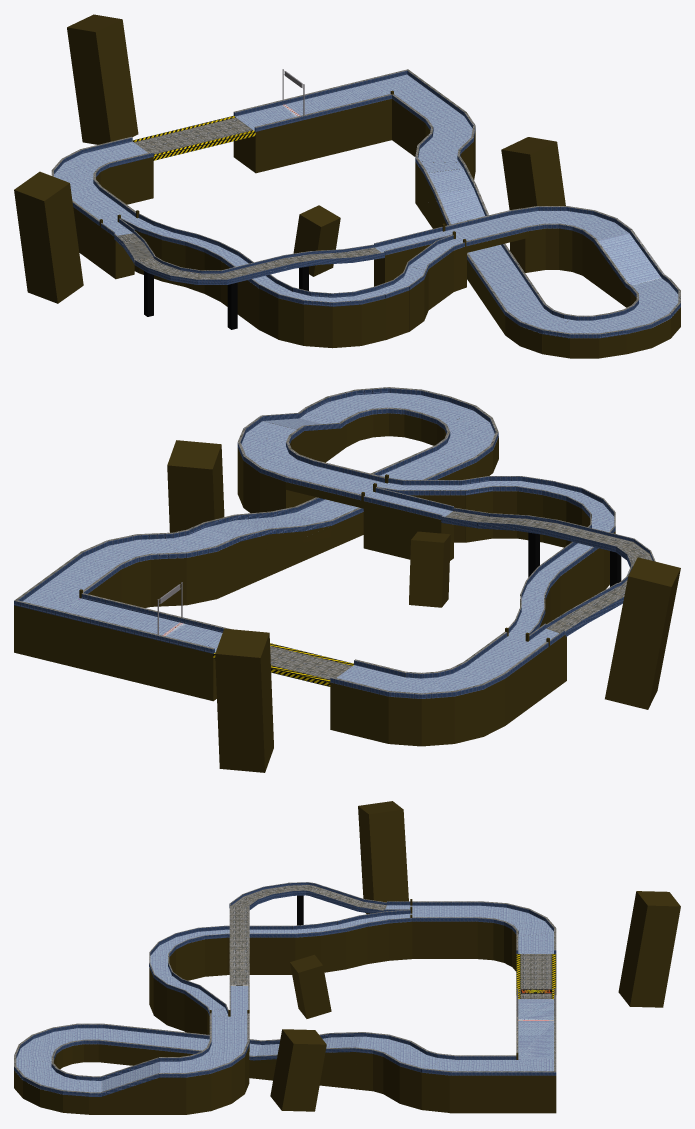
3 renders of one model, top to bottom at view 1: azimuth 30°, elevation 25°; view 2: azimuth 150°, elevation 25°; view 3: azimuth 270°, elevation 25°, orthographic. The views are drawn at different scales.
Visible parts, largest first — view 1: newtelamonheights-SKP--wallrock.001, newtelamonheights-SKP--road1.001, newtelamonheights-SKP--wallmain.001, newtelamonheights-SKP--bridgestone.001, newtelamonheights-SKP--Part14Mtl.001, newtelamonheights-SKP--bridgeside.001; view 2: newtelamonheights-SKP--wallrock.001, newtelamonheights-SKP--road1.001, newtelamonheights-SKP--wallmain.001, newtelamonheights-SKP--bridgestone.001, newtelamonheights-SKP--Part14Mtl.001, newtelamonheights-SKP--bridgeside.001; view 3: newtelamonheights-SKP--wallrock.001, newtelamonheights-SKP--road1.001, newtelamonheights-SKP--wallmain.001, newtelamonheights-SKP--bridgestone.001.
Boxes of the visible parts, <box> form: newtelamonheights-SKP--wallrock.001: <box>14,14,680,358</box>; newtelamonheights-SKP--road1.001: <box>54,74,678,333</box>; newtelamonheights-SKP--wallmain.001: <box>54,70,680,338</box>; newtelamonheights-SKP--bridgestone.001: <box>51,69,680,334</box>; newtelamonheights-SKP--Part14Mtl.001: <box>144,266,308,329</box>; newtelamonheights-SKP--bridgeside.001: <box>132,116,255,160</box>; newtelamonheights-SKP--wallrock.001: <box>14,413,680,772</box>; newtelamonheights-SKP--road1.001: <box>23,393,614,693</box>; newtelamonheights-SKP--wallmain.001: <box>14,388,653,698</box>; newtelamonheights-SKP--bridgestone.001: <box>14,387,655,694</box>; newtelamonheights-SKP--Part14Mtl.001: <box>528,532,621,586</box>; newtelamonheights-SKP--bridgeside.001: <box>213,643,353,686</box>; newtelamonheights-SKP--wallrock.001: <box>14,801,680,1114</box>; newtelamonheights-SKP--road1.001: <box>16,905,553,1092</box>; newtelamonheights-SKP--wallmain.001: <box>14,882,556,1096</box>; newtelamonheights-SKP--bridgestone.001: <box>14,882,556,1093</box>.
Size of what is drawn, in the model's own units: 49659 by 11133 by 64583.
10 materials, 10 textured.
